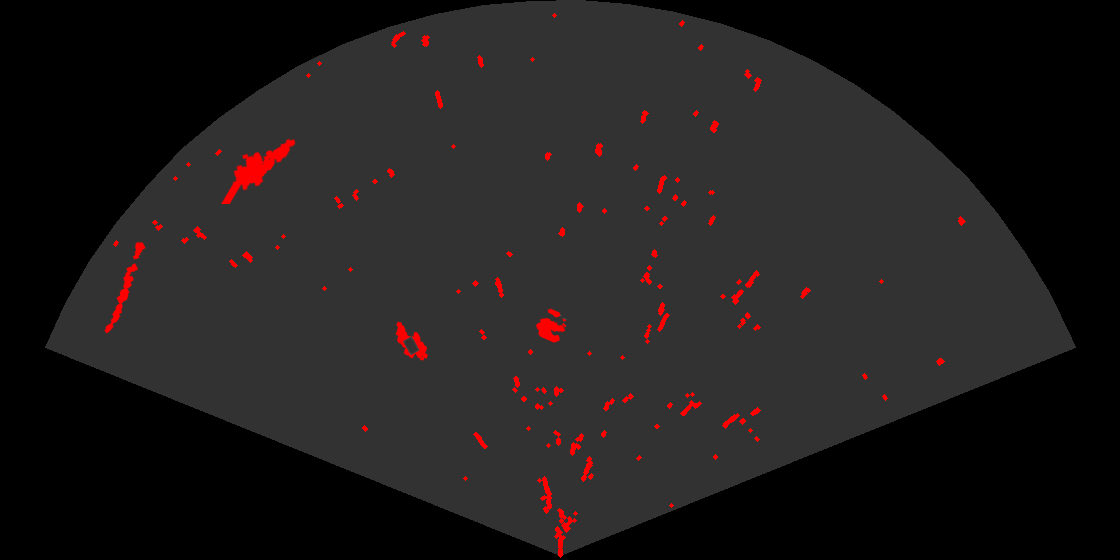AUV: (394, 320, 429, 362)
ball: (534, 307, 568, 344)
chain: (103, 239, 147, 335)
frogman: (221, 137, 297, 204)
